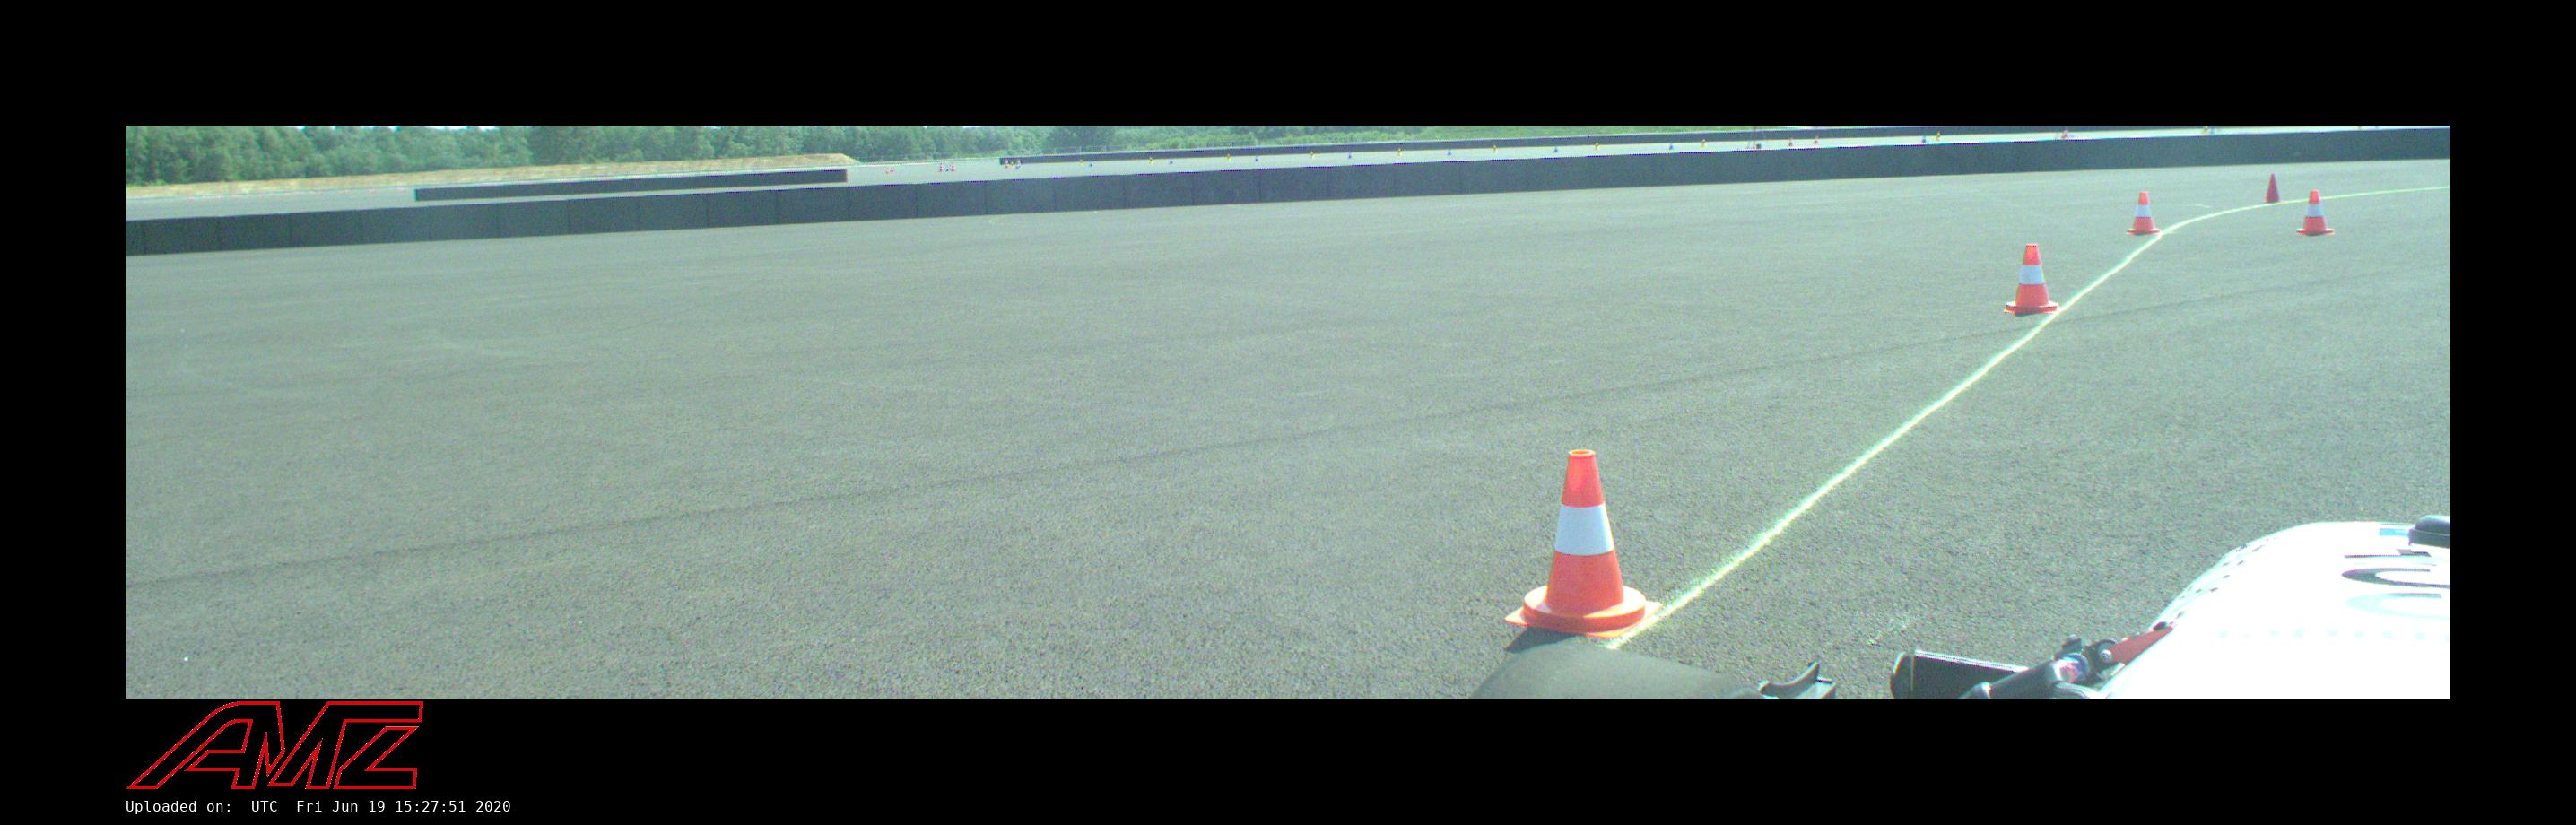blue_cone: (1921, 133, 1927, 143), (1667, 141, 1674, 150), (1170, 156, 1175, 164), (2210, 125, 2215, 133), (1349, 151, 1352, 159), (1554, 145, 1557, 153), (1089, 161, 1094, 166), (1255, 154, 1258, 161), (1447, 150, 1451, 156)
orange_cone: (1506, 449, 1667, 636), (2003, 243, 2058, 316), (2297, 191, 2334, 237), (2124, 192, 2159, 235), (938, 161, 945, 173), (1787, 136, 1794, 146), (1814, 135, 1819, 145), (951, 161, 956, 171), (885, 166, 890, 174), (2062, 131, 2067, 138), (890, 166, 894, 173), (1005, 161, 1009, 168)
unknown_cone: (2264, 174, 2280, 202)
yellow_cone: (1492, 145, 1497, 153), (1937, 131, 1940, 141), (1148, 156, 1153, 163), (1227, 154, 1232, 161), (1309, 151, 1314, 158), (2203, 127, 2208, 133), (1079, 159, 1084, 164), (1702, 140, 1705, 146), (1398, 148, 1401, 154), (1595, 143, 1599, 150), (1010, 161, 1014, 166)
